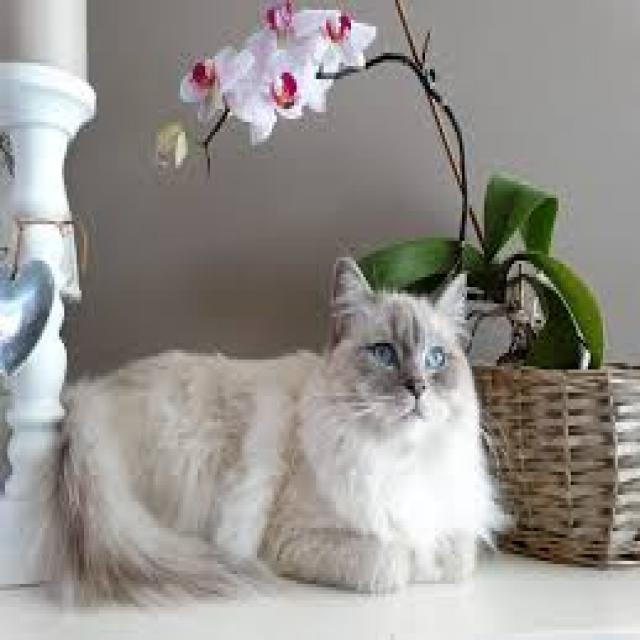Cat: (50, 251, 502, 617)
